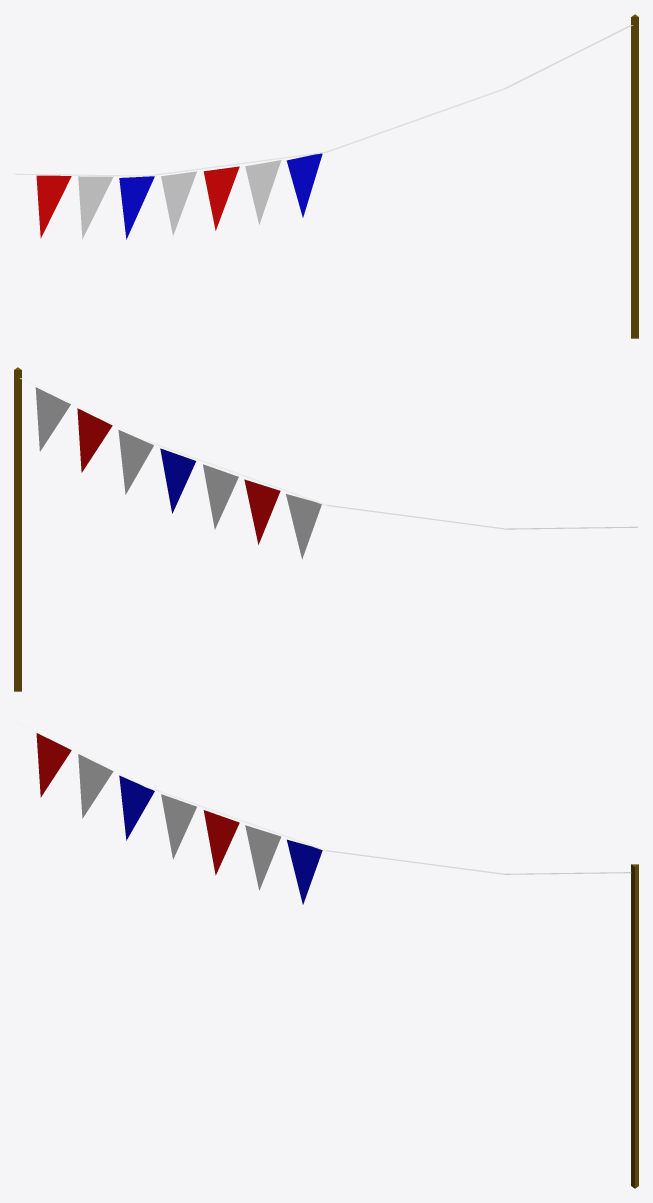
The model's file is Wimpel_1871.glb.
3 renders of one model, top to bottom at view 1: azimuth 30°, elevation 25°; view 2: azimuth 150°, elevation 25°; view 3: azimuth 330°, elevation 25°, orthographic.
Visible parts, largest first — view 1: pCylinderShape1, pCylinderShape3, pCylinderShape4, pCylinderShape5, pCylinderShape6, pCylinderShape7, pCylinderShape9, pCylinderShape8, pCylinderShape10; view 2: pCylinderShape1, pCylinderShape3, pCylinderShape14, pCylinderShape16, pCylinderShape11, pCylinderShape15, pCylinderShape13, pCylinderShape12, pCylinderShape17; view 3: pCylinderShape1, pCylinderShape3, pCylinderShape9, pCylinderShape8, pCylinderShape7, pCylinderShape4, pCylinderShape6, pCylinderShape10, pCylinderShape5.
Part boxes in pixels (x1,y1,x2,y2): pCylinderShape1: (631, 14, 638, 338); pCylinderShape3: (14, 24, 633, 176); pCylinderShape4: (36, 175, 71, 238); pCylinderShape5: (78, 176, 113, 239); pCylinderShape6: (119, 176, 154, 239); pCylinderShape7: (161, 171, 196, 235); pCylinderShape9: (245, 160, 281, 224); pCylinderShape8: (203, 166, 239, 230); pCylinderShape10: (286, 153, 322, 217); pCylinderShape1: (14, 367, 21, 691); pCylinderShape3: (19, 377, 638, 529); pCylinderShape14: (160, 448, 196, 513); pCylinderShape16: (244, 479, 280, 544); pCylinderShape11: (35, 387, 70, 451); pCylinderShape15: (203, 464, 238, 529); pCylinderShape13: (118, 429, 153, 494); pCylinderShape12: (77, 408, 112, 472); pCylinderShape17: (286, 494, 321, 559); pCylinderShape1: (631, 864, 638, 1188); pCylinderShape3: (14, 720, 631, 874); pCylinderShape9: (245, 825, 281, 890); pCylinderShape8: (203, 810, 239, 875); pCylinderShape7: (161, 794, 196, 859); pCylinderShape4: (36, 733, 71, 797); pCylinderShape6: (119, 775, 154, 840); pCylinderShape10: (287, 839, 322, 904); pCylinderShape5: (78, 754, 113, 818).
Size of the model in its own units: 1.01 by 0.4981 by 0.011.
